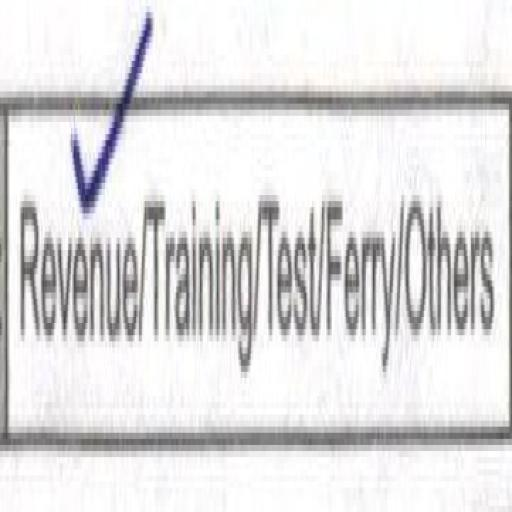check: (3, 18, 146, 512)
